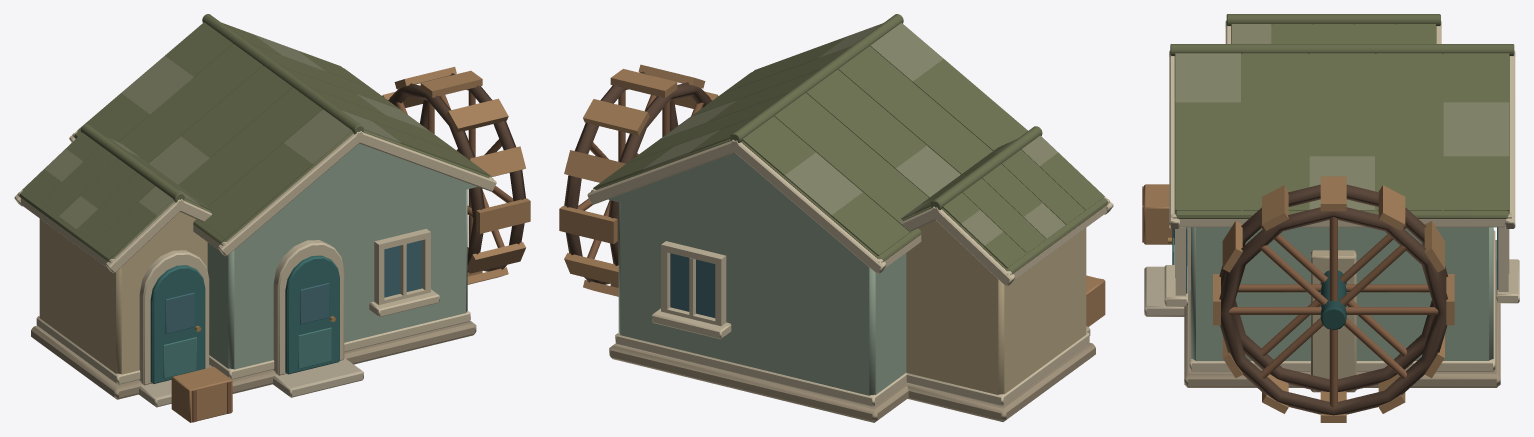
The model's file is watermill_level_2.glb.
3 renders of one model, left to right at view 1: azimuth 30°, elevation 25°; view 2: azimuth 150°, elevation 25°; view 3: azimuth 270°, elevation 25°, orthographic. The views are drawn at different scales.
Parts seen in each view (by area): view 1: watermill_level_2_runtime; view 2: watermill_level_2_runtime; view 3: watermill_level_2_runtime.
Part boxes in pixels (x1,y1,x2,y2): watermill_level_2_runtime: [14, 14, 530, 422]; watermill_level_2_runtime: [559, 14, 1113, 422]; watermill_level_2_runtime: [1142, 14, 1519, 422].
Bounding box in the file's own units: 6.41 × 3.53 × 4.36.
